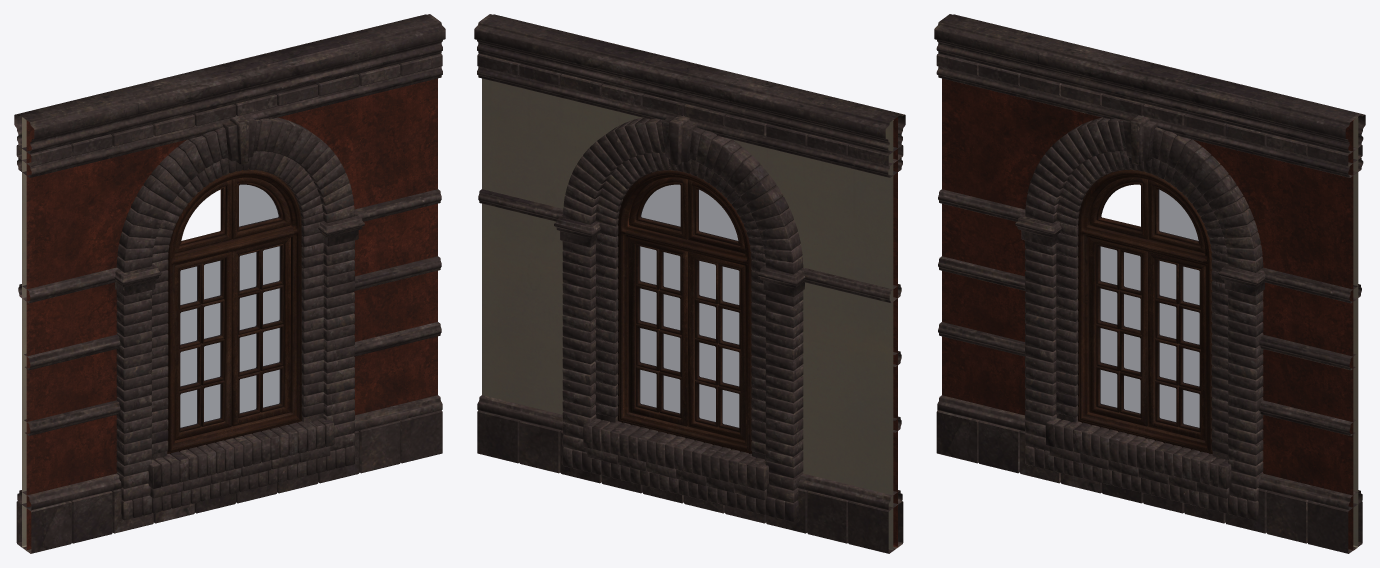
Rendered from SK2 WINDOW 2.fbx.
3 views of the same model, side by side, from view 1: azimuth 30°, elevation 25°; view 2: azimuth 150°, elevation 25°; view 3: azimuth 330°, elevation 25° (orthographic).
Visible parts, largest first — view 1: SK2 WINDOW 2.006; view 2: SK2 WINDOW 2.006; view 3: SK2 WINDOW 2.006.
Boxes of the visible parts, <box> form: SK2 WINDOW 2.006: <box>14,14,445,553</box>; SK2 WINDOW 2.006: <box>474,14,905,553</box>; SK2 WINDOW 2.006: <box>934,14,1365,553</box>.
Bounding box in the file's own units: 400 × 400 × 52.2.
